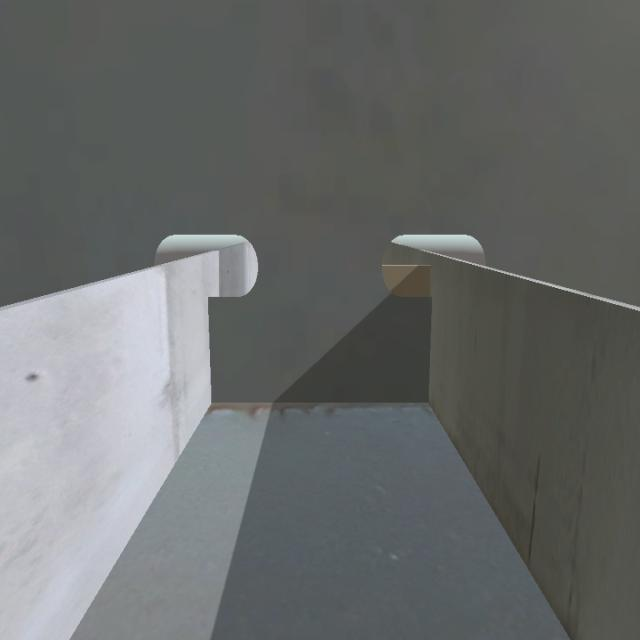fillet_yong_jeop_jang: (209, 382, 430, 430)
longi_yong_jeop_jang: (200, 300, 218, 403), (420, 295, 435, 399)
plate_behind: (380, 266, 430, 300)
